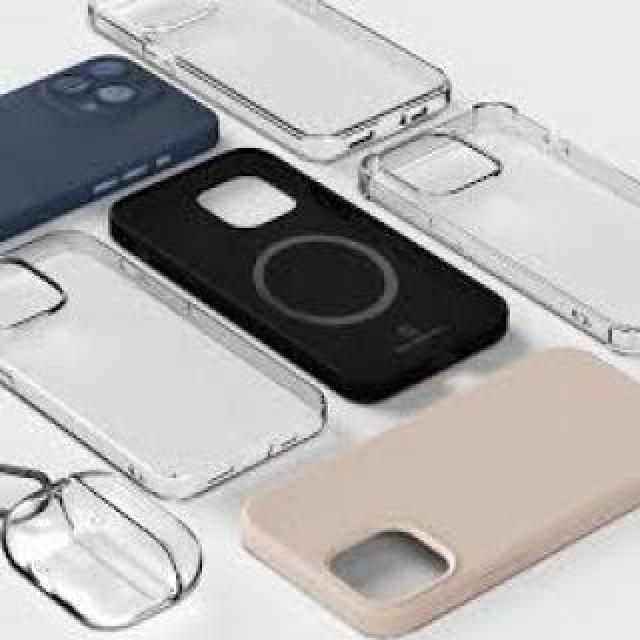smart phone: (0, 46, 228, 150)
